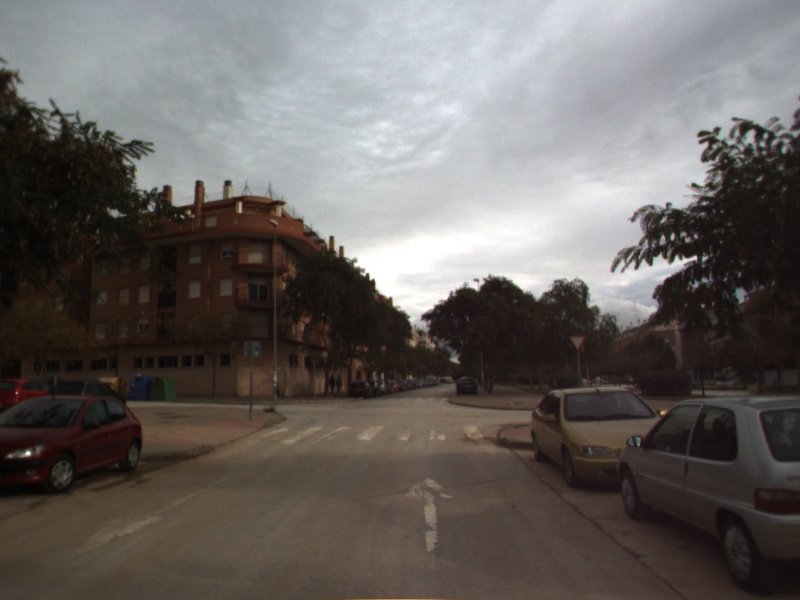STRAIGHT: (399, 474, 457, 554)
